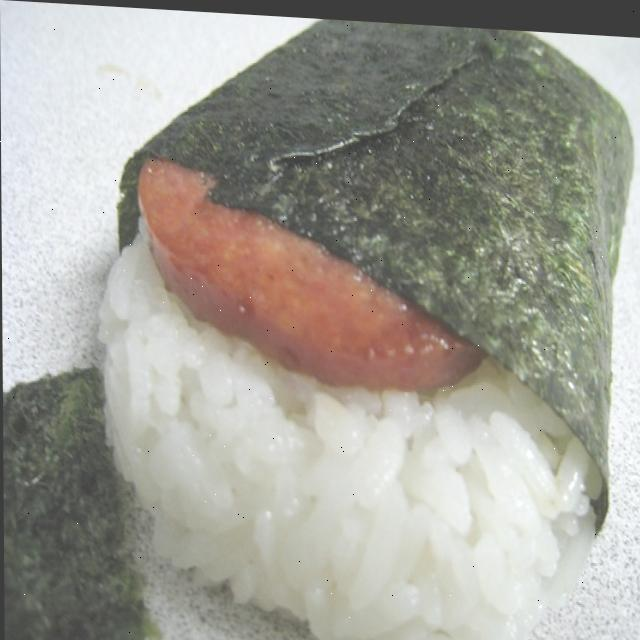寿司卷物: (58, 3, 640, 640)
